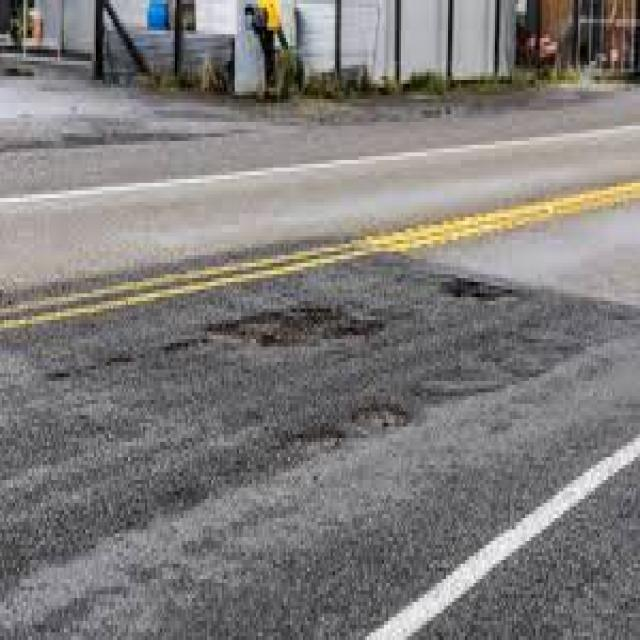Pothole: (208, 304, 384, 346), (438, 274, 512, 299)
